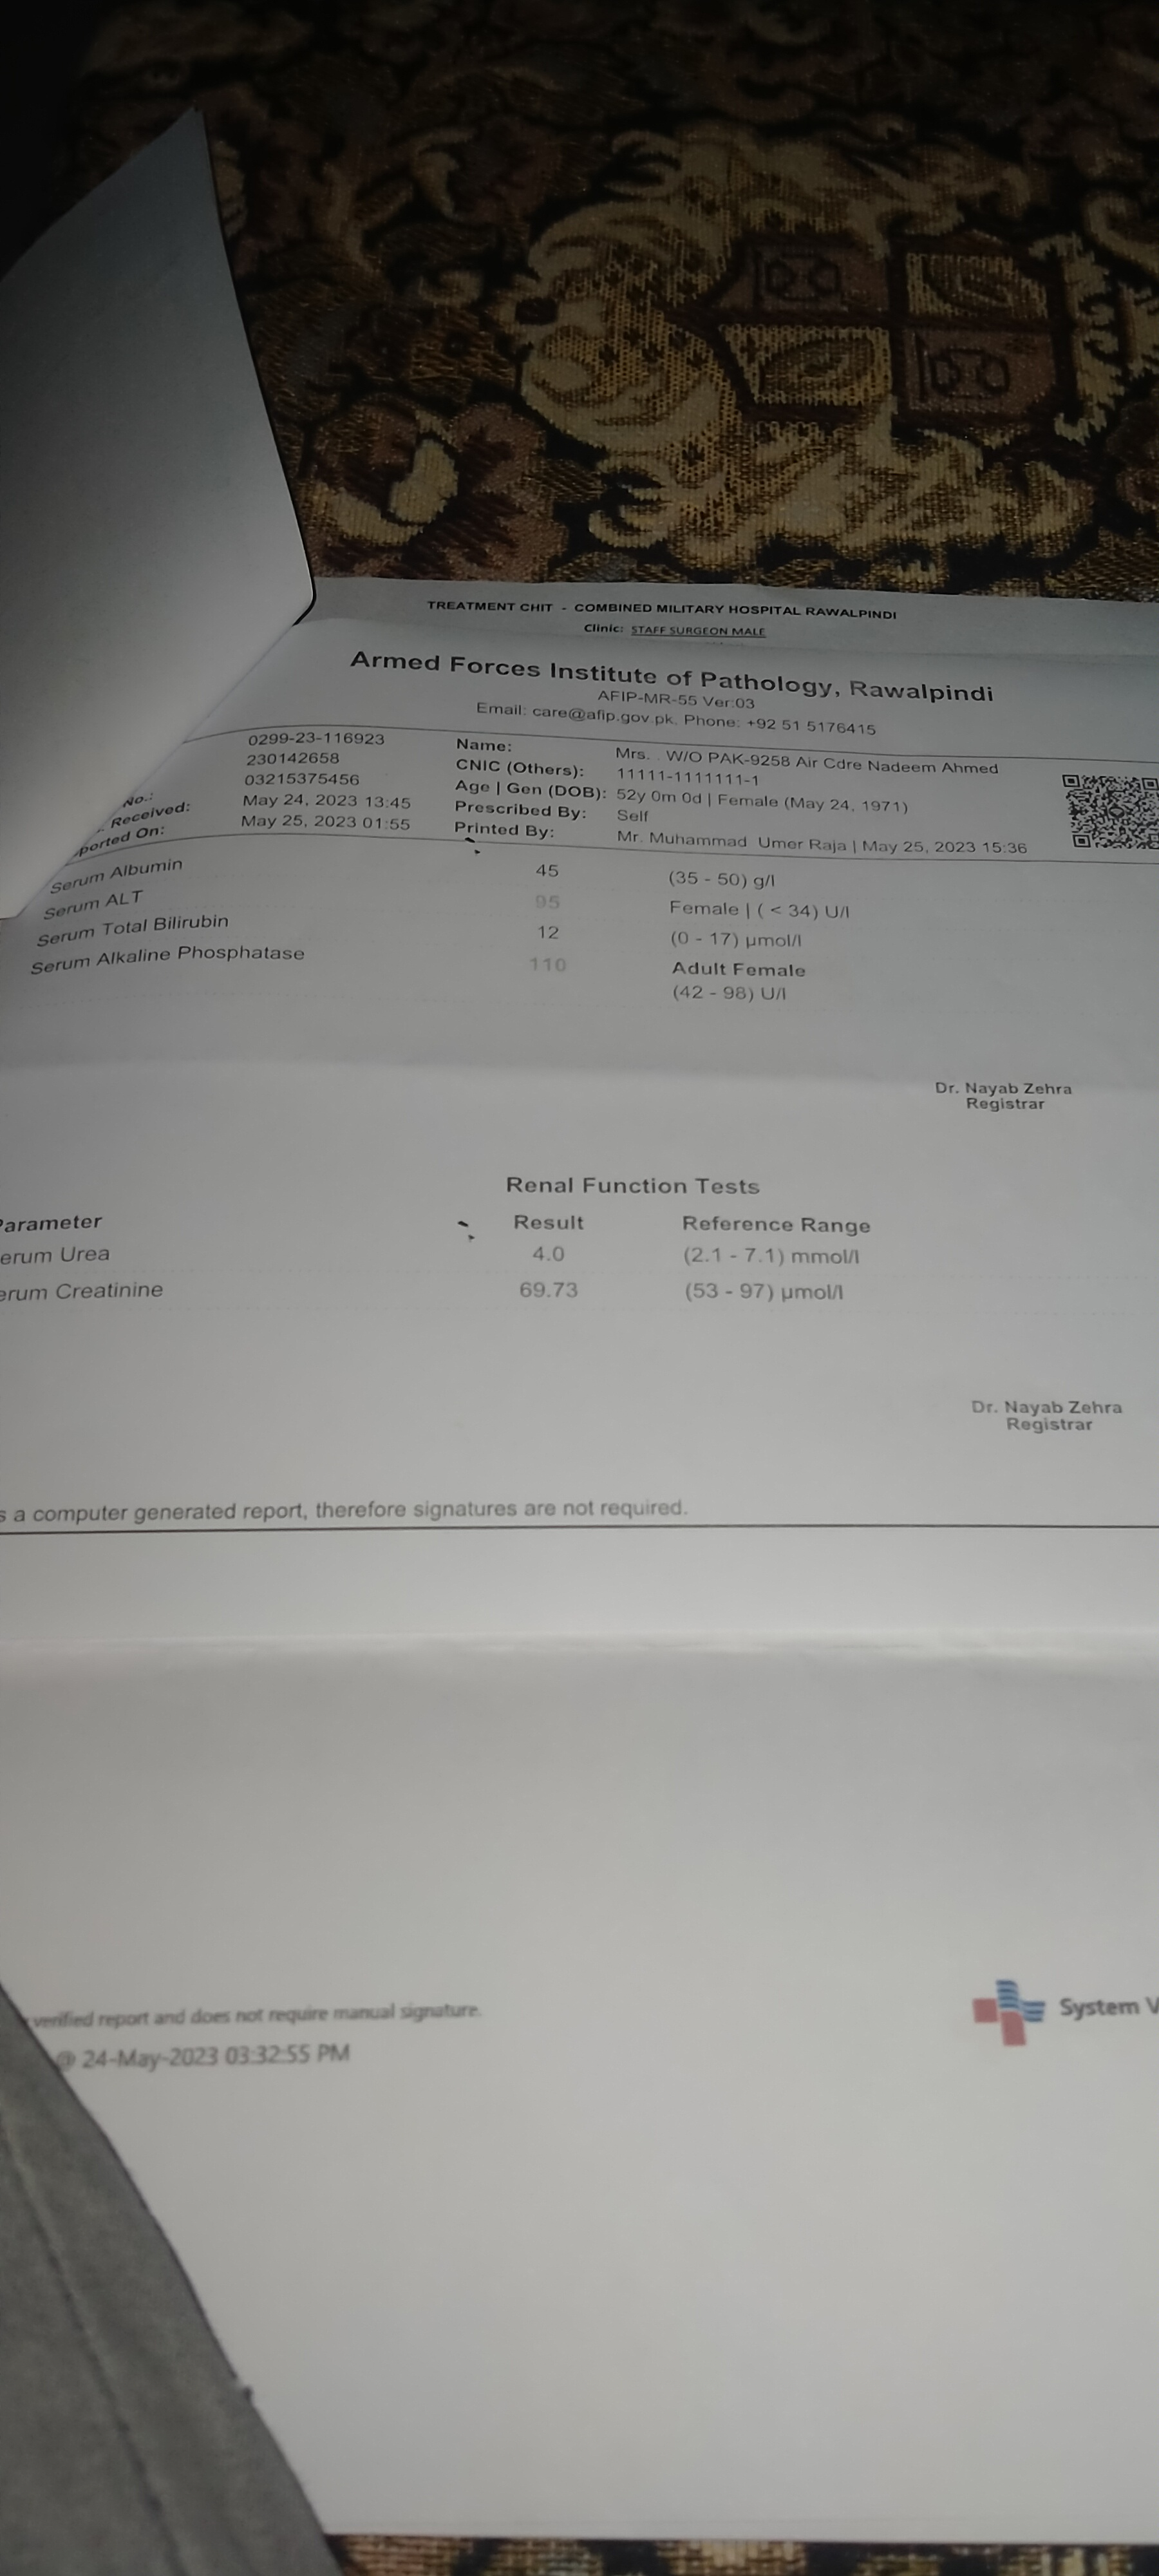report: (13, 849, 1159, 1449)
